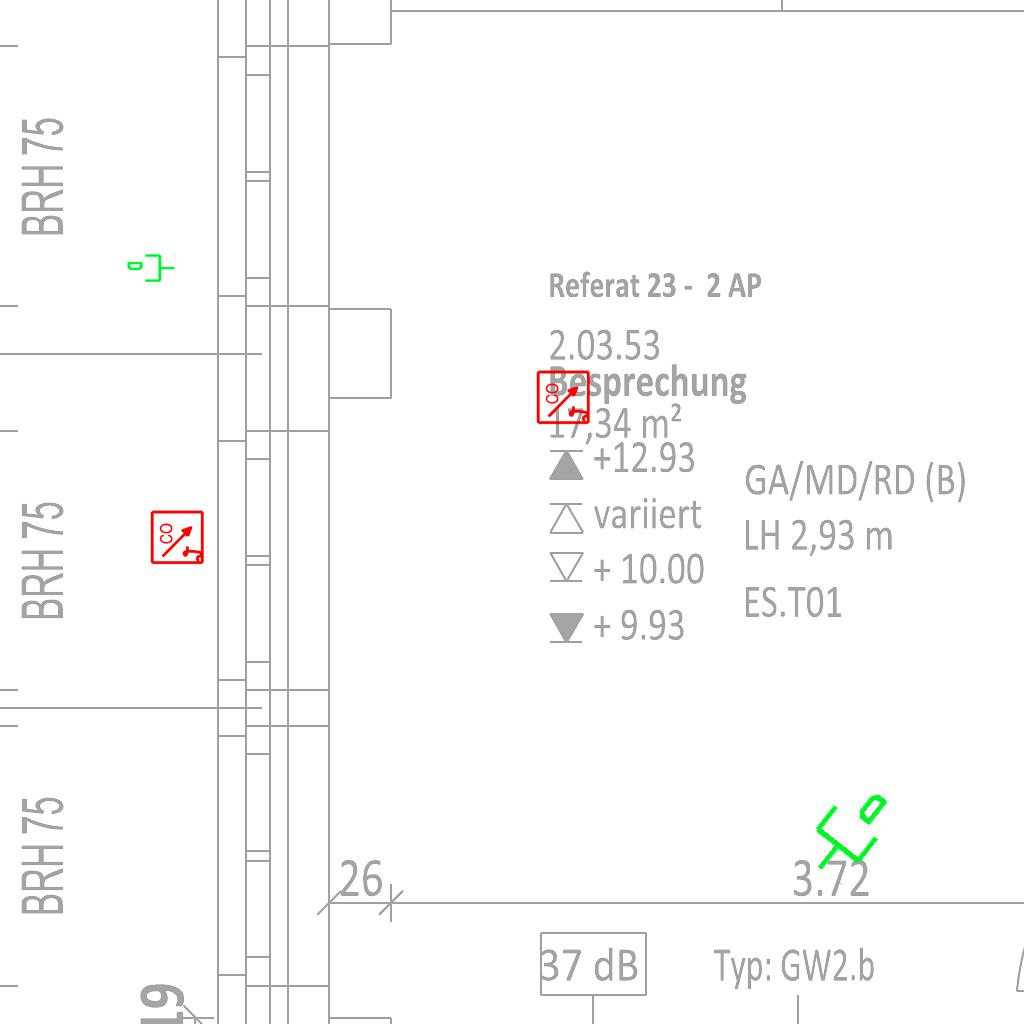Datenanschluss_einfach: (789, 769, 906, 891), (126, 252, 176, 286)
ROA_Rauchmelder_optisch_mit_Signalgeber_(Sockelsirene): (536, 369, 592, 425), (150, 509, 206, 565)
